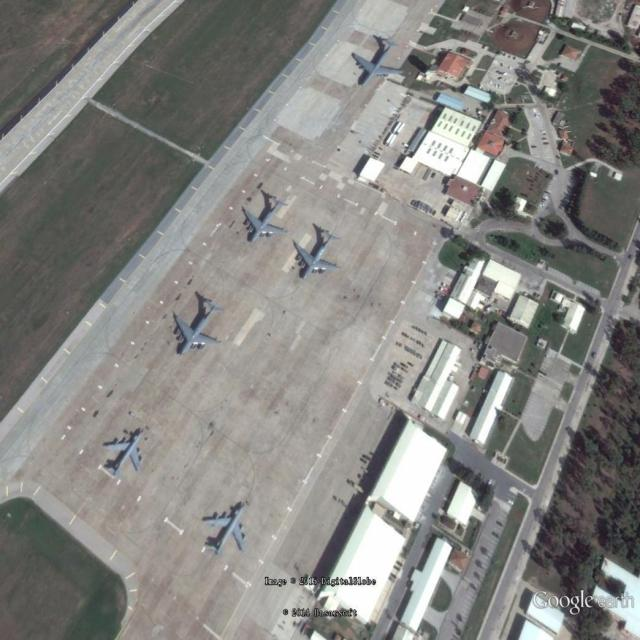aircraft: (171, 294, 229, 356), (350, 34, 411, 89), (201, 498, 249, 565), (291, 225, 343, 286), (238, 194, 291, 249), (102, 427, 150, 485)
